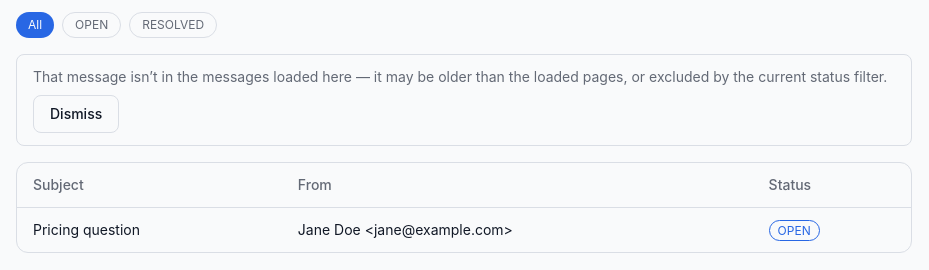
it: InboxPage › dismisses the notice and does not bring it back
The width and height of the screenshot is (929, 270).
What coordinates should you click on to do the following:
click the button "Dismiss"
I would click on:
 (76, 114)
Its box is [33, 95, 119, 133].
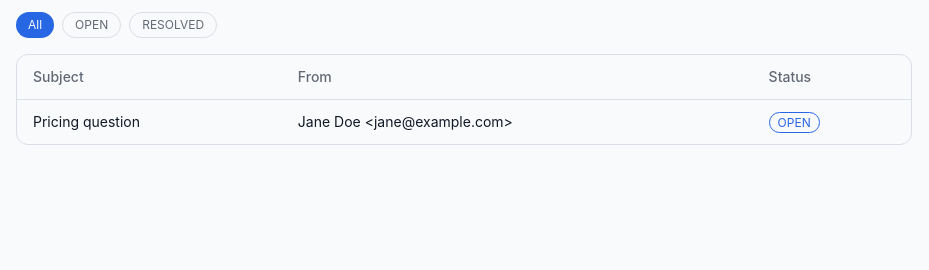
Now the message is gone
